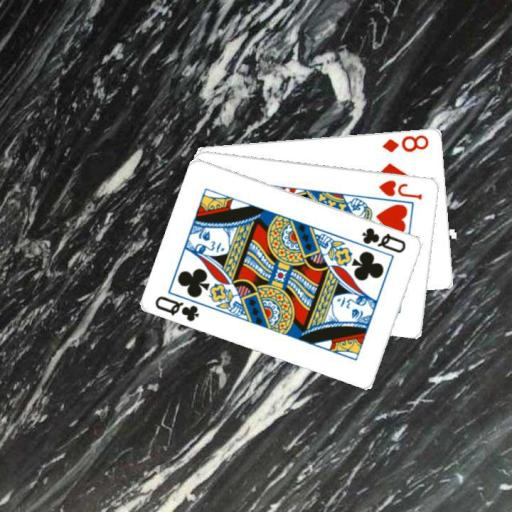8D: (379, 132, 430, 154)
JH: (376, 177, 424, 201)
QC: (359, 224, 408, 255), (152, 292, 201, 323)
